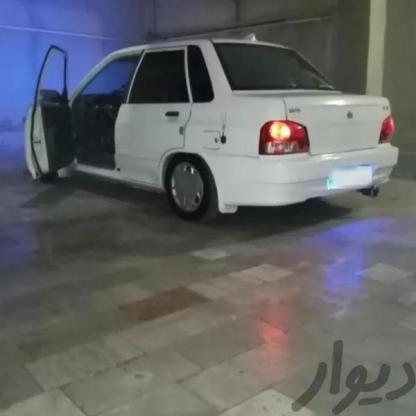Car: (26, 26, 396, 232)
